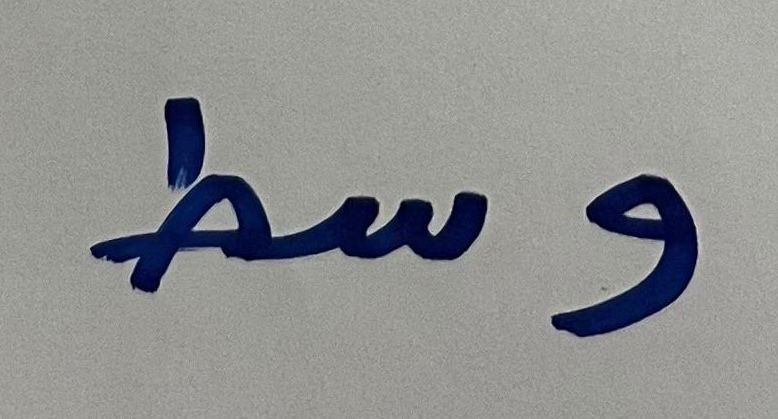seen: (291, 86, 502, 333)
tah: (57, 42, 286, 321)
waw: (510, 120, 722, 377)
